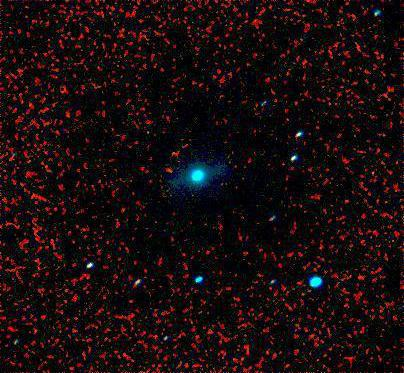star: (154, 156, 184, 186)
